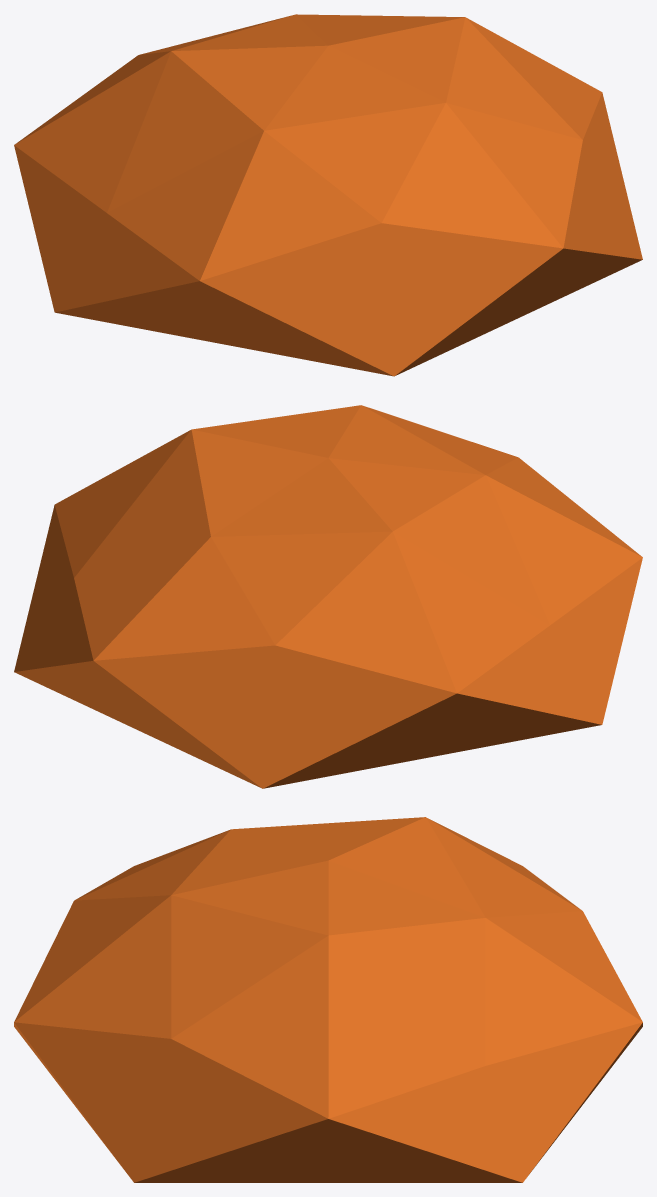
Rendered from Shrub01.fbx.
The picture shows the model from 3 angles, top to bottom: view 1: azimuth 30°, elevation 25°; view 2: azimuth 150°, elevation 25°; view 3: azimuth 270°, elevation 25°; orthographic projection. The views are drawn at different scales.
Parts seen in each view (by area): view 1: Icosphere; view 2: Icosphere; view 3: Icosphere.
Part boxes in pixels (box(x1,y1,x2,y2)): Icosphere: box(14, 14, 642, 376); Icosphere: box(14, 405, 642, 788); Icosphere: box(14, 817, 642, 1182).
Size of the model in its own units: 211 by 83.19 by 201.
